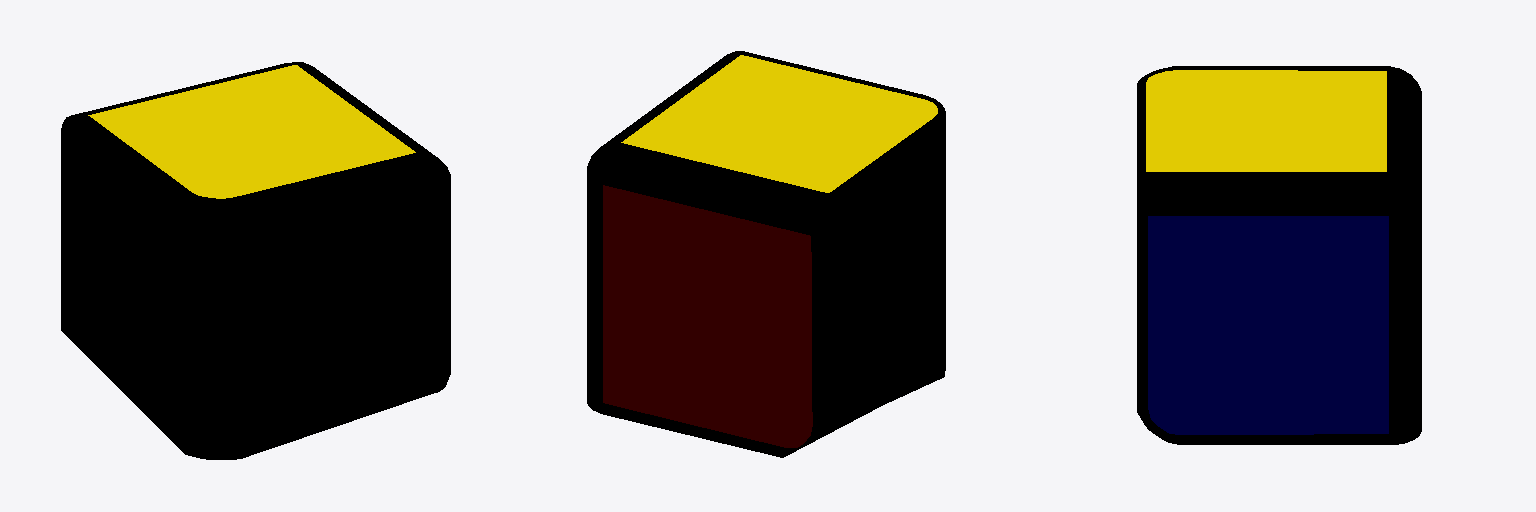
Rendered from cornerYBR.obj.
3 renders of one model, left to right at view 1: azimuth 30°, elevation 25°; view 2: azimuth 150°, elevation 25°; view 3: azimuth 270°, elevation 25°, orthographic.
Visible parts, largest first — view 1: BasicCorner_Plane, ColoredSide1_Plane.001; view 2: BasicCorner_Plane, ColoredSide3_Plane.005, ColoredSide1_Plane.001; view 3: ColoredSide2_Plane.004, BasicCorner_Plane, ColoredSide1_Plane.001.
Boxes of the visible parts, <box> form: BasicCorner_Plane: <box>61,62,450,459</box>; ColoredSide1_Plane.001: <box>88,65,415,198</box>; BasicCorner_Plane: <box>587,51,945,457</box>; ColoredSide3_Plane.005: <box>603,185,812,447</box>; ColoredSide1_Plane.001: <box>621,55,937,192</box>; ColoredSide2_Plane.004: <box>1148,216,1388,434</box>; BasicCorner_Plane: <box>1137,66,1421,444</box>; ColoredSide1_Plane.001: <box>1146,70,1386,171</box>.
Bounding box in the file's own units: 0.1809 × 0.1801 × 0.1809.